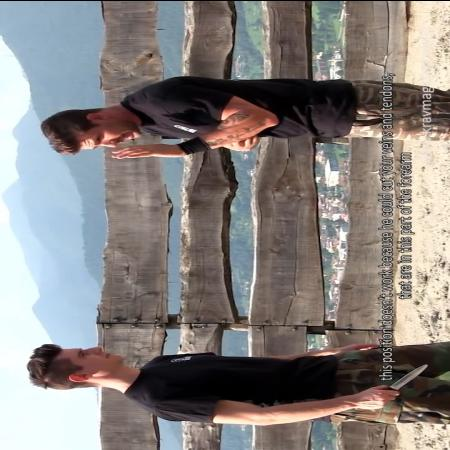long weapon: (360, 361, 432, 412)
